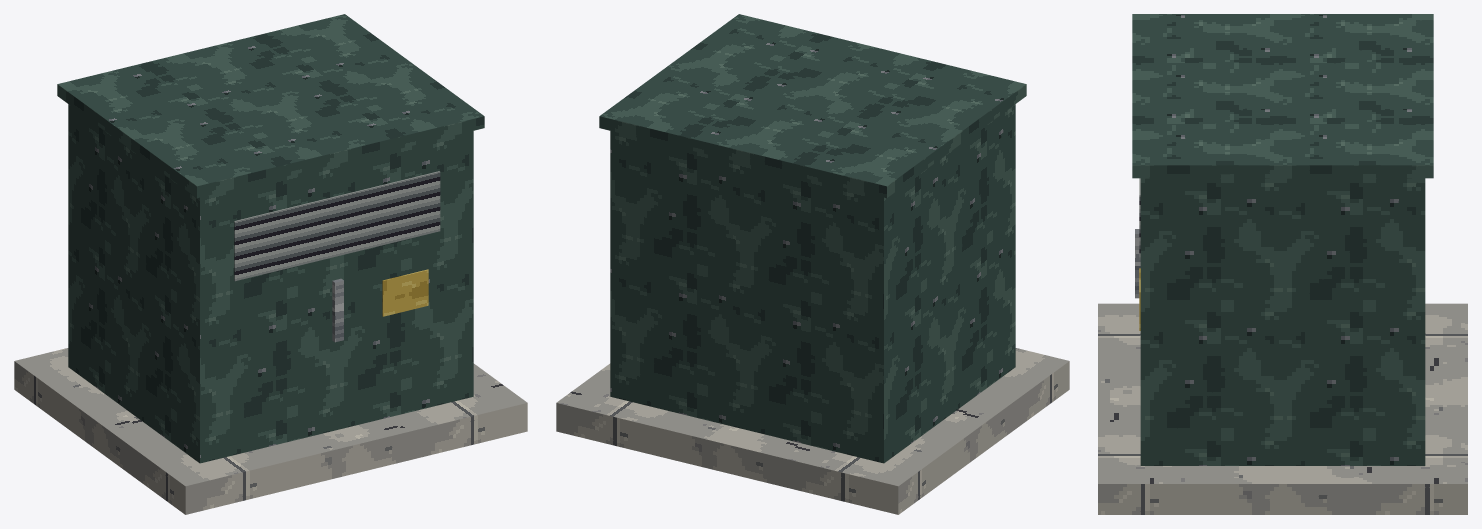
Rendered from UT_Transformer_PadMount.obj.
3 renders of one model, left to right at view 1: azimuth 30°, elevation 25°; view 2: azimuth 150°, elevation 25°; view 3: azimuth 270°, elevation 25°, orthographic. The views are drawn at different scales.
Visible parts, largest first — view 1: UT_Transformer_PadMount_Mesh_M_Town_PaintGreen, UT_Transformer_PadMount_Mesh_M_Road_CurbConcrete, UT_Transformer_PadMount_Mesh_M_Town_VentGrille, UT_Transformer_PadMount_Mesh_M_Town_PaintYellow, UT_Transformer_PadMount_Mesh_M_Furn_MetalBrushed; view 2: UT_Transformer_PadMount_Mesh_M_Town_PaintGreen, UT_Transformer_PadMount_Mesh_M_Road_CurbConcrete; view 3: UT_Transformer_PadMount_Mesh_M_Town_PaintGreen, UT_Transformer_PadMount_Mesh_M_Road_CurbConcrete.
Boxes of the visible parts, x1,y1,x2,y2 form: UT_Transformer_PadMount_Mesh_M_Town_PaintGreen: [57, 14, 484, 463]; UT_Transformer_PadMount_Mesh_M_Road_CurbConcrete: [14, 348, 527, 514]; UT_Transformer_PadMount_Mesh_M_Town_VentGrille: [234, 171, 440, 281]; UT_Transformer_PadMount_Mesh_M_Town_PaintYellow: [382, 269, 428, 316]; UT_Transformer_PadMount_Mesh_M_Furn_MetalBrushed: [332, 278, 343, 342]; UT_Transformer_PadMount_Mesh_M_Town_PaintGreen: [599, 14, 1026, 463]; UT_Transformer_PadMount_Mesh_M_Road_CurbConcrete: [556, 348, 1069, 514]; UT_Transformer_PadMount_Mesh_M_Town_PaintGreen: [1132, 14, 1433, 465]; UT_Transformer_PadMount_Mesh_M_Road_CurbConcrete: [1098, 303, 1467, 514].
Bounding box in the file's own units: 1.5 × 1.3 × 1.3.
Materials: 5 (5 with a texture image).
